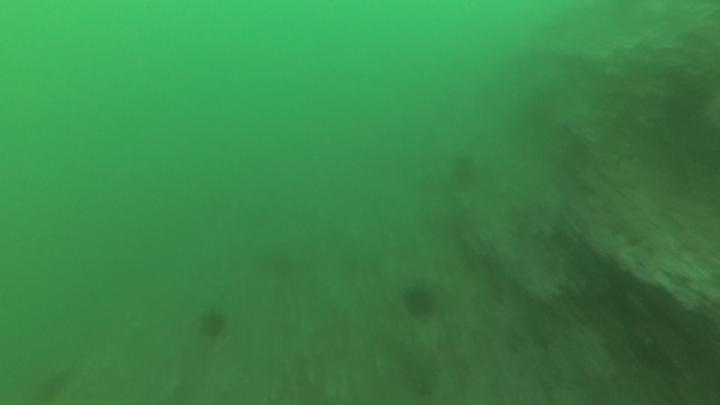echinus: (250, 244, 299, 282), (399, 282, 439, 322), (194, 306, 231, 343), (33, 369, 72, 404), (448, 152, 481, 191)
